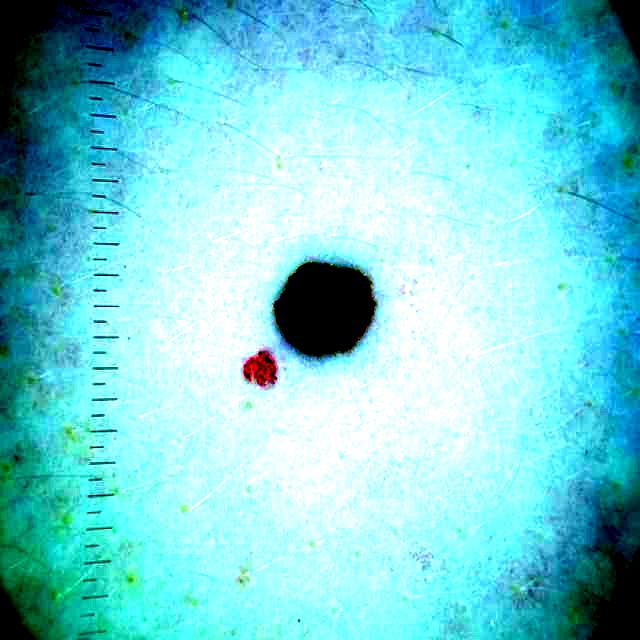MEL: (275, 263, 375, 352), (244, 351, 276, 385)
